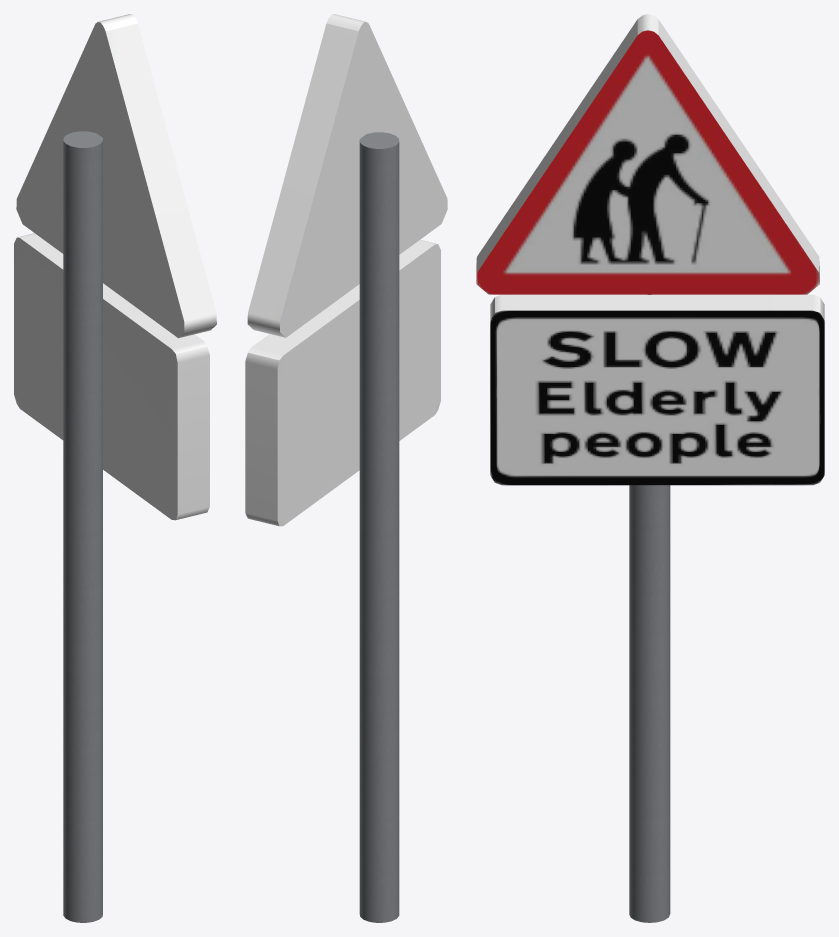
Rendered from elderly sign.fbx.
3 renders of one model, left to right at view 1: azimuth 30°, elevation 25°; view 2: azimuth 150°, elevation 25°; view 3: azimuth 270°, elevation 25°, orthographic. The views are drawn at different scales.
Parts seen in each view (by area): view 1: pCube75; view 2: pCube75; view 3: pCube75.
Boxes of the visible parts, x1,y1,x2,y2 form: pCube75: [14, 14, 216, 922]; pCube75: [245, 14, 447, 922]; pCube75: [476, 14, 824, 922].
Bounding box in the file's own units: 19.32 × 248 × 86.14.
Materials: 1 (1 with a texture image).
